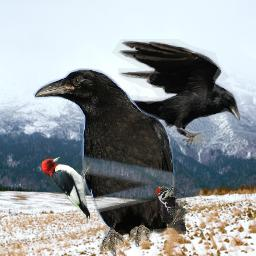Crow: (33, 68, 178, 256), (96, 39, 242, 145)
Cuckoo: (167, 203, 189, 228)
Woodpecker: (41, 156, 90, 222), (154, 186, 186, 234)
